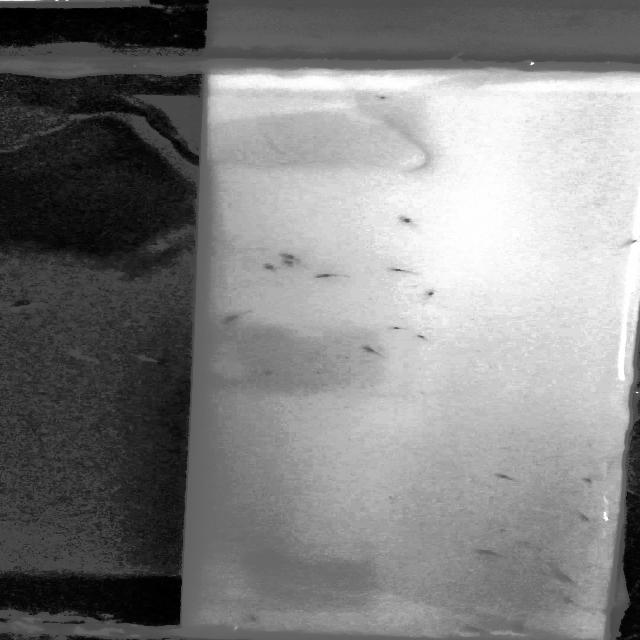shrimp: (551, 566, 585, 590), (477, 544, 511, 562), (218, 312, 248, 324), (386, 266, 418, 276), (413, 333, 437, 344), (307, 272, 349, 278), (262, 260, 281, 273), (422, 289, 441, 302), (582, 478, 596, 494), (243, 615, 280, 621), (402, 216, 420, 228), (281, 258, 302, 268), (512, 623, 532, 633), (463, 623, 488, 631), (280, 254, 302, 262), (364, 346, 380, 357), (497, 472, 516, 481), (577, 516, 593, 524), (388, 325, 409, 331), (557, 596, 578, 602), (260, 372, 283, 376), (379, 96, 397, 100)
